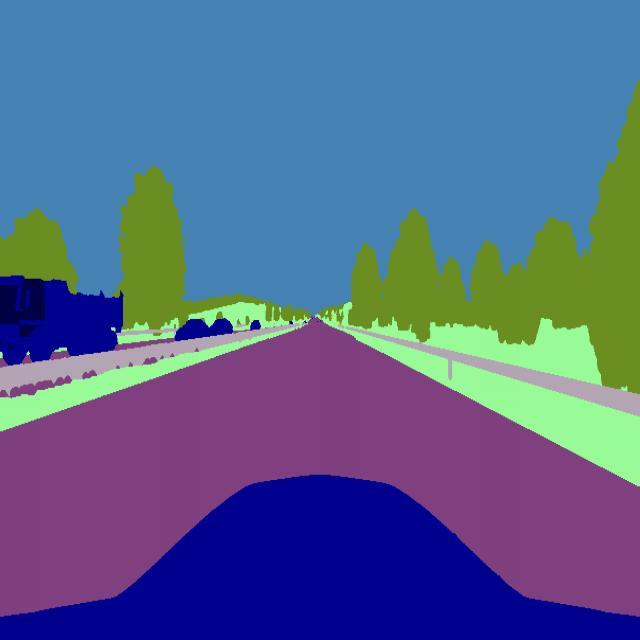safe: (0, 276, 129, 362), (173, 312, 210, 343), (208, 315, 236, 342), (248, 315, 264, 335)
